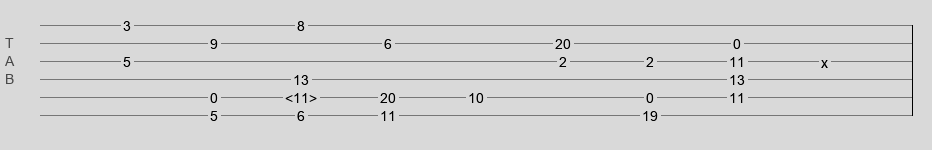0: (210, 90, 218, 100), (646, 90, 654, 100), (733, 36, 741, 46)
10: (468, 90, 484, 100)
11: (380, 108, 396, 118), (729, 54, 745, 64), (729, 90, 745, 100)
13: (293, 72, 309, 82), (729, 72, 745, 82)
19: (642, 108, 658, 118)
2: (559, 54, 567, 64), (646, 54, 654, 64)
20: (380, 90, 396, 100), (555, 36, 571, 46)
3: (123, 18, 131, 28)
5: (123, 54, 131, 64), (210, 108, 218, 118)
6: (297, 108, 305, 118), (384, 36, 392, 46)
8: (297, 18, 305, 28)
9: (210, 36, 218, 46)
harmonic: (285, 90, 317, 100)
x: (821, 55, 828, 63)
